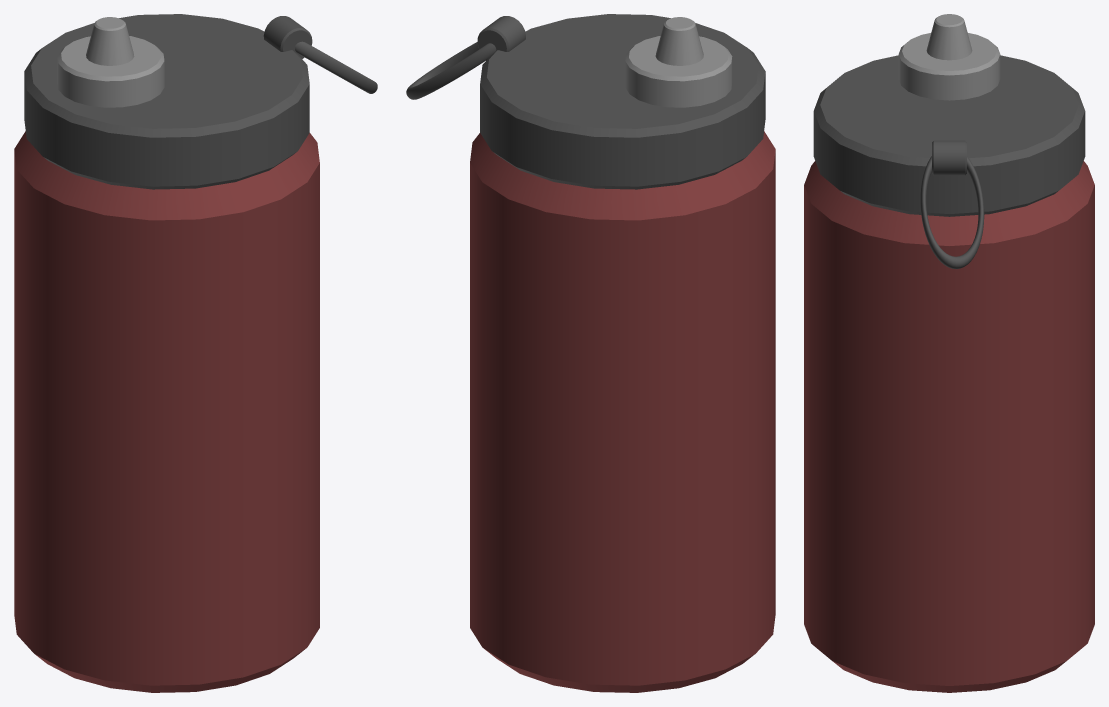
File: SportBottle01.fbx
3 views of the same model, side by side, from view 1: azimuth 30°, elevation 25°; view 2: azimuth 150°, elevation 25°; view 3: azimuth 270°, elevation 25° (orthographic). The views are drawn at different scales.
Parts seen in each view (by area): view 1: BottleShape1; view 2: BottleShape1; view 3: BottleShape1.
Part boxes in pixels (x1,y1,x2,y2): BottleShape1: [14, 14, 377, 692]; BottleShape1: [406, 14, 775, 692]; BottleShape1: [804, 14, 1094, 692].
Bounding box in the file's own units: 6.47 × 11.25 × 5.01.
